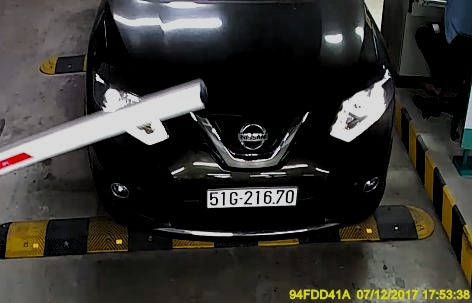plate: (203, 181, 302, 212)
